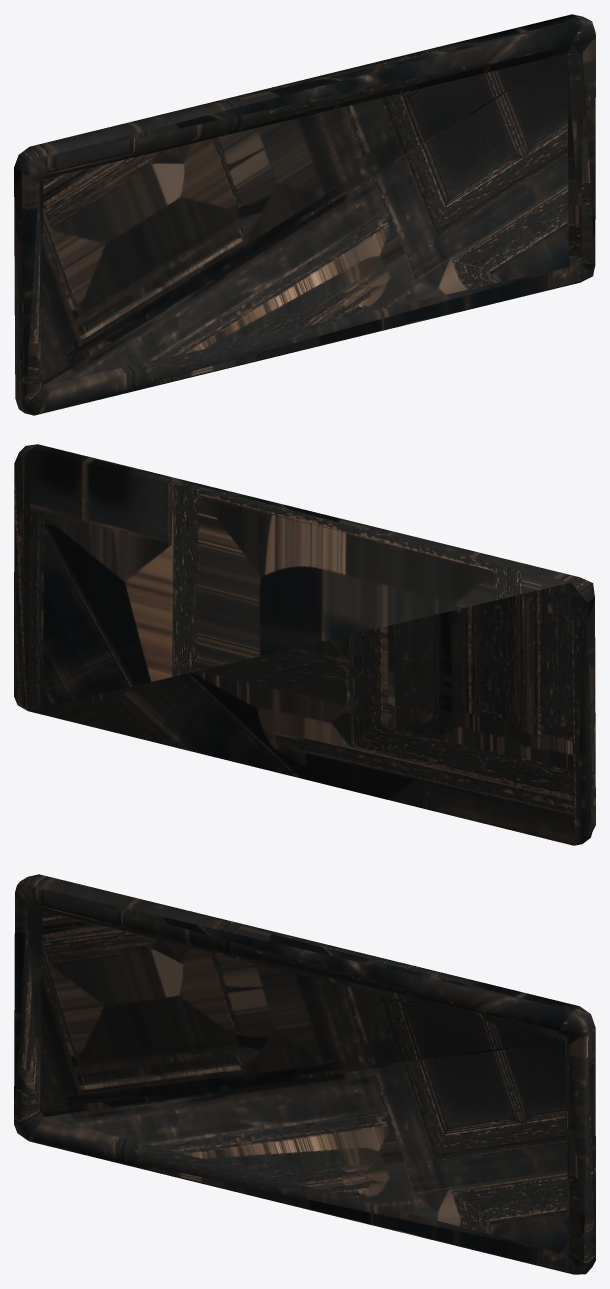
Rendered from level4 sign.fbx.
3 views of the same model, one above another, from view 1: azimuth 30°, elevation 25°; view 2: azimuth 150°, elevation 25°; view 3: azimuth 330°, elevation 25° (orthographic).
Parts seen in each view (by area): view 1: level4 sign; view 2: level4 sign; view 3: level4 sign.
Boxes of the visible parts, x1,y1,x2,y2 form: level4 sign: (14,14,595,415); level4 sign: (14,444,595,845); level4 sign: (14,874,595,1274).
Size of the model in its own units: 748 by 329 by 25.59.
